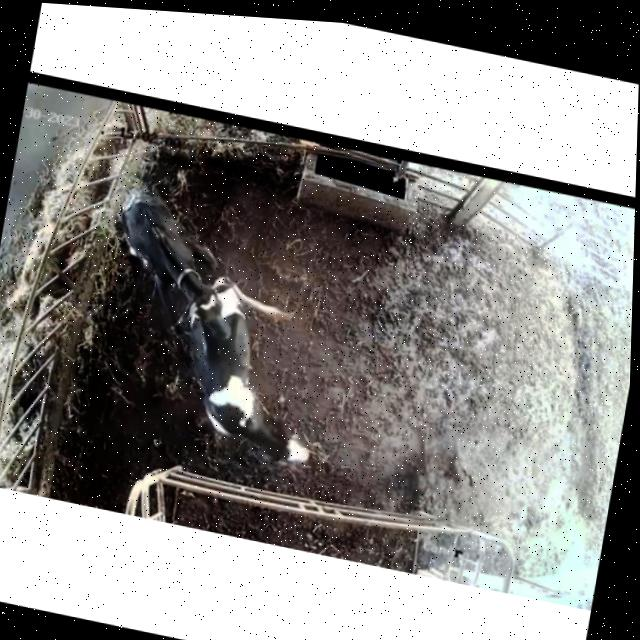propping: (151, 253, 257, 362)
